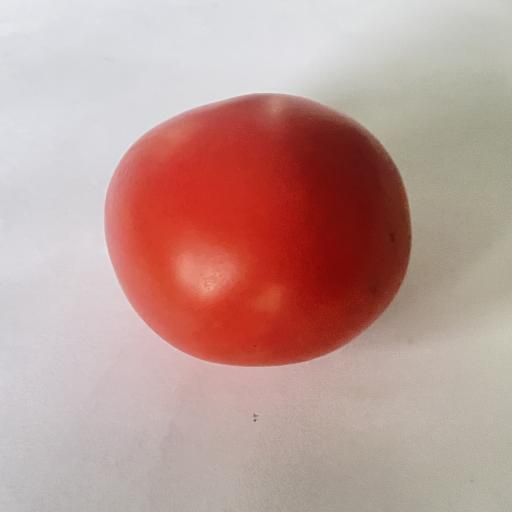ripe: (105, 94, 411, 366)
